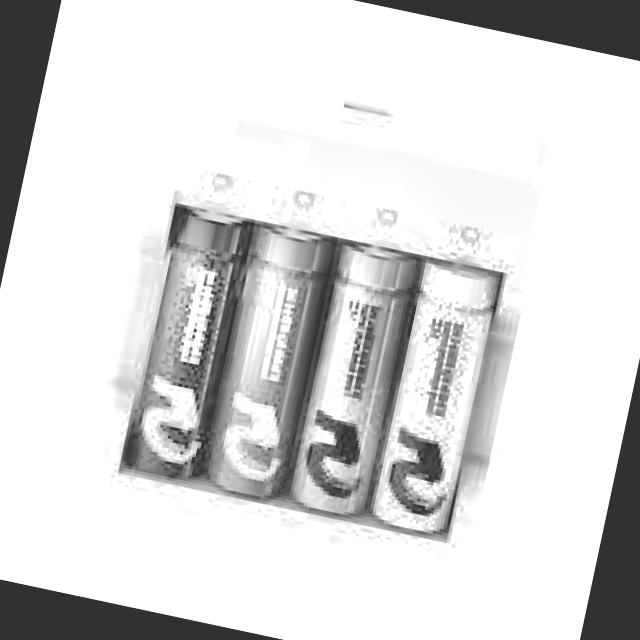Battery: (199, 217, 335, 498), (364, 252, 498, 534), (283, 237, 418, 512), (119, 202, 249, 482)
